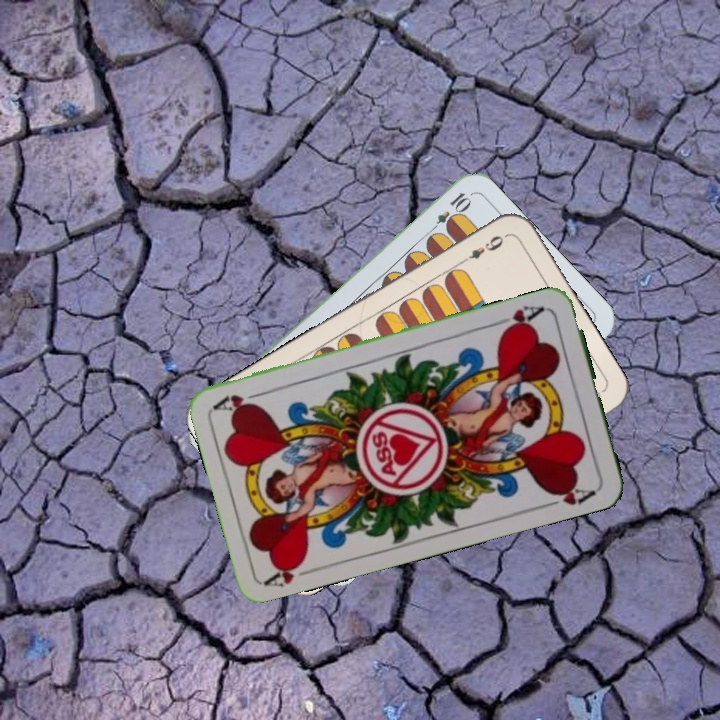E10: (424, 188, 473, 238)
E9: (456, 230, 510, 267)
HA: (261, 555, 320, 590), (491, 301, 547, 335)
